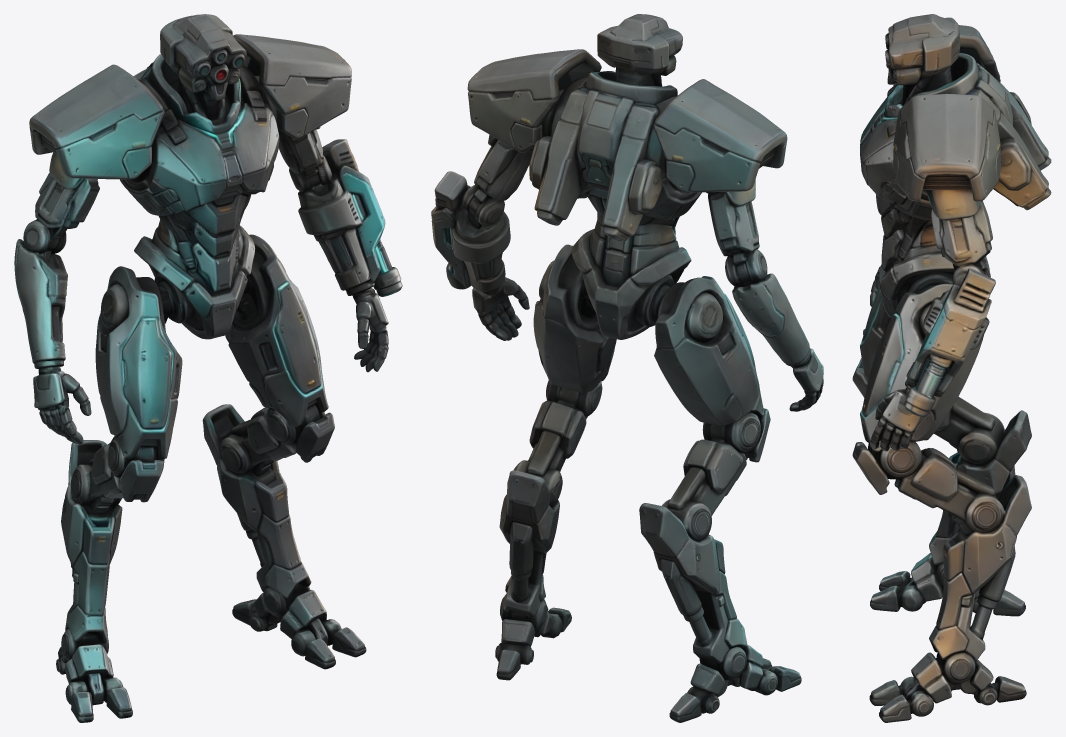
File: enemy_iron_sentinel_source.glb
3 views of the same model, side by side, from view 1: azimuth 30°, elevation 25°; view 2: azimuth 150°, elevation 25°; view 3: azimuth 270°, elevation 25° (orthographic). The views are drawn at different scales.
Parts seen in each view (by area): view 1: tripo_node_e0528349-8143-4e49-9123-5980b3ab6118; view 2: tripo_node_e0528349-8143-4e49-9123-5980b3ab6118; view 3: tripo_node_e0528349-8143-4e49-9123-5980b3ab6118.
Boxes of the visible parts, x1=… form: tripo_node_e0528349-8143-4e49-9123-5980b3ab6118: x1=14, y1=14, x2=402, y2=722; tripo_node_e0528349-8143-4e49-9123-5980b3ab6118: x1=431, y1=14, x2=823, y2=722; tripo_node_e0528349-8143-4e49-9123-5980b3ab6118: x1=852, y1=14, x2=1051, y2=722.
Size of the model in its own units: 0.5908 by 1 by 0.2824.
1 material, 1 textured.
